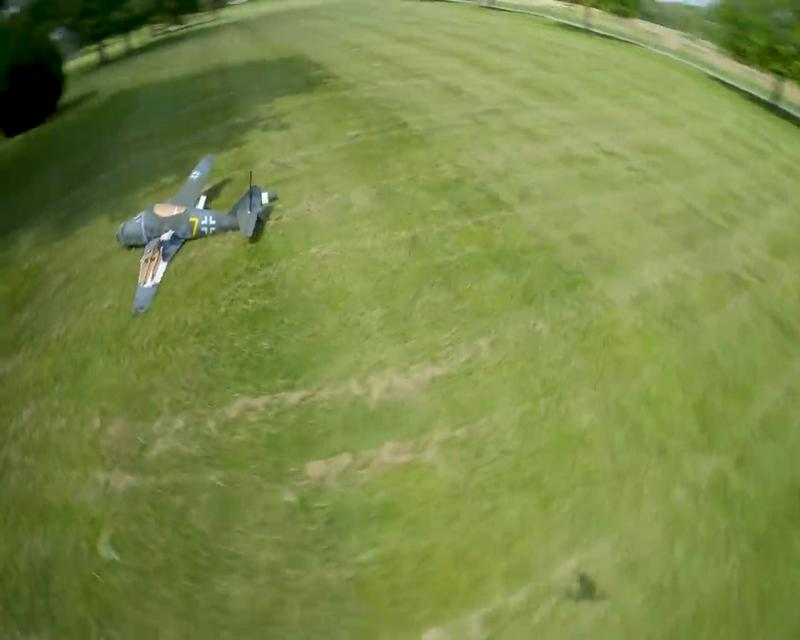UAV: (114, 152, 278, 317)
